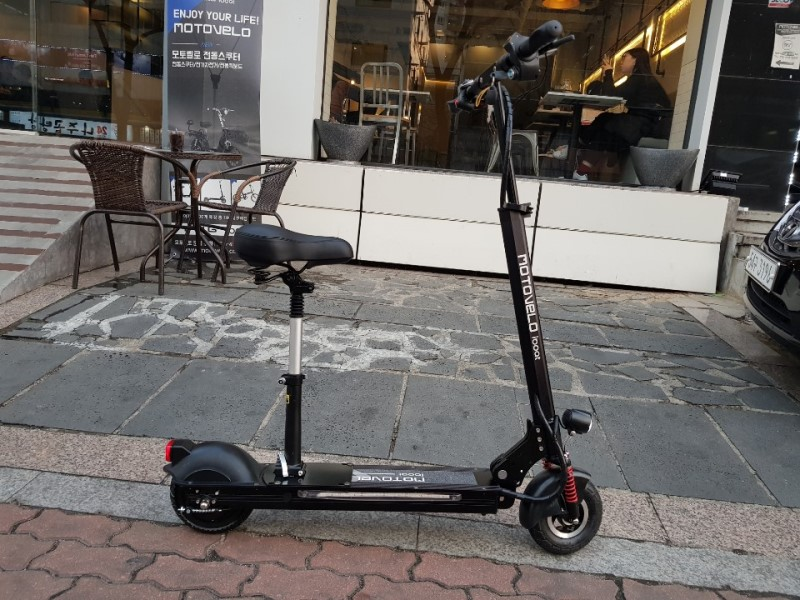scooter: (158, 16, 607, 557)
